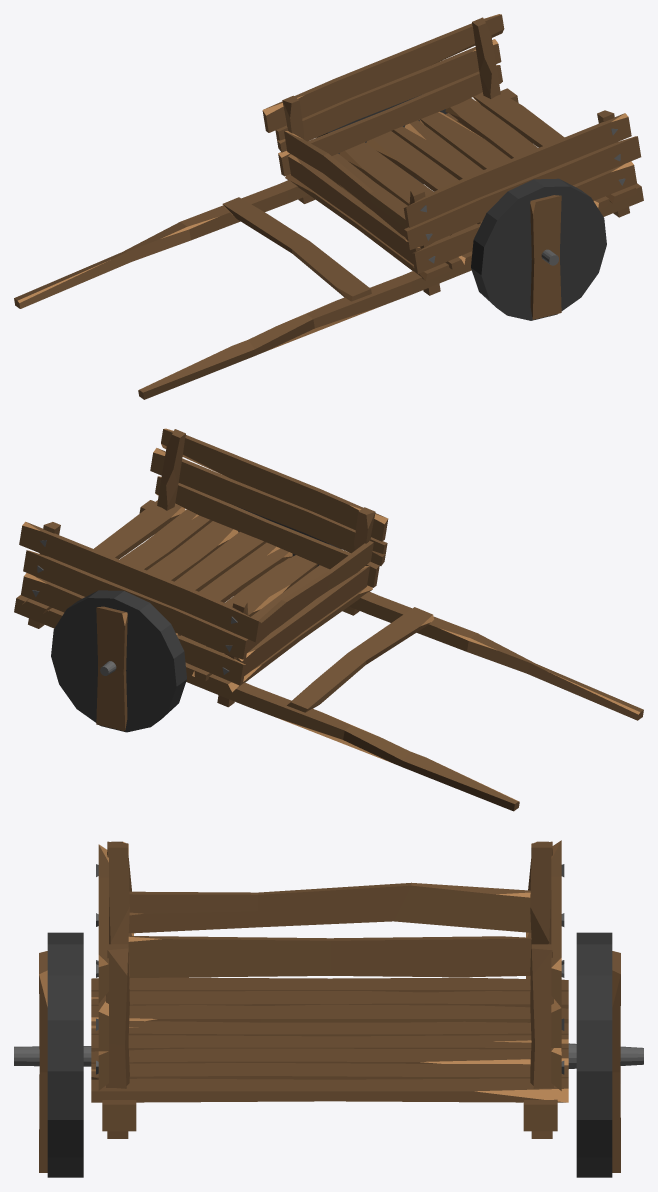
The model's file is Wagon.fbx.
The picture shows the model from 3 angles, top to bottom: view 1: azimuth 30°, elevation 25°; view 2: azimuth 150°, elevation 25°; view 3: azimuth 270°, elevation 25°; orthographic projection. The views are drawn at different scales.
Visible parts, largest first — view 1: Wagon; view 2: Wagon; view 3: Wagon.
Boxes of the visible parts, x1,y1,x2,y2 form: Wagon: (14,14,643,399); Wagon: (14,428,643,811); Wagon: (14,840,643,1177).
Bounding box in the file's own units: 409 × 136 × 264.
